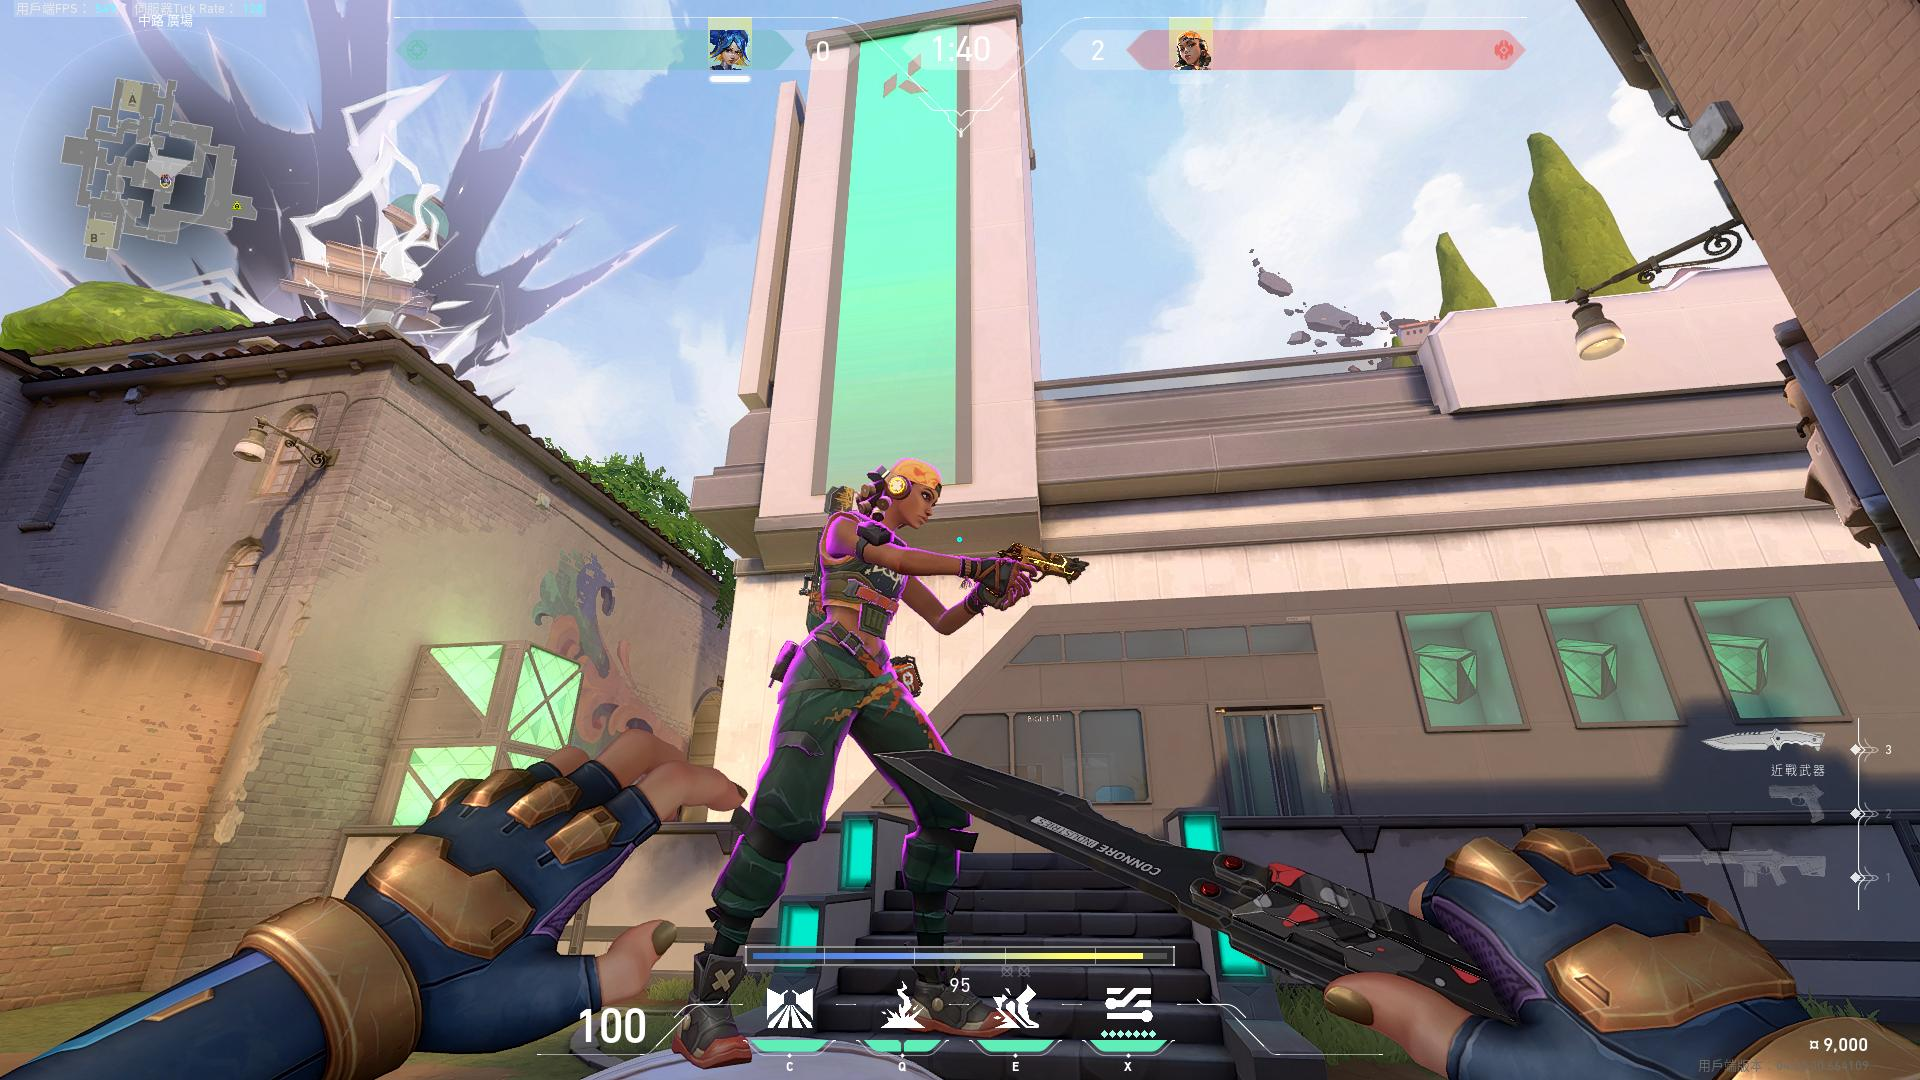enemyBody: (833, 531, 889, 644)
enemyHead: (887, 465, 932, 516)
